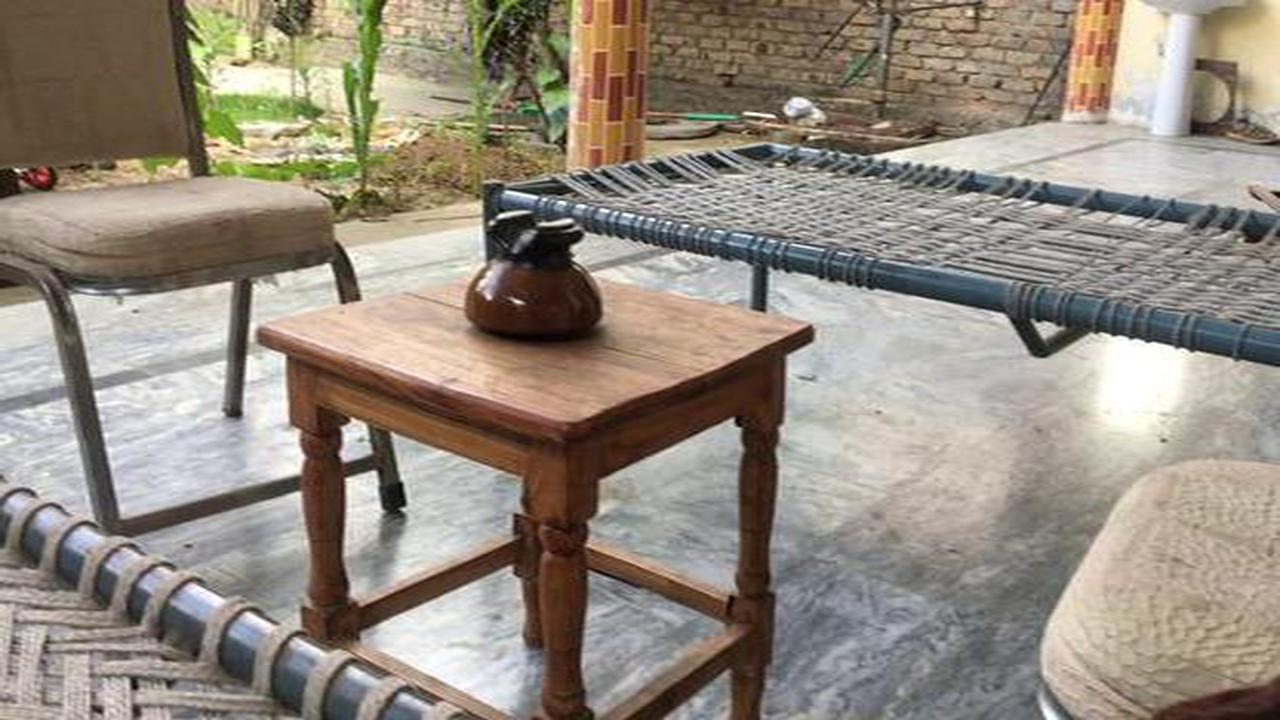insulator_pin: (453, 194, 625, 357)
